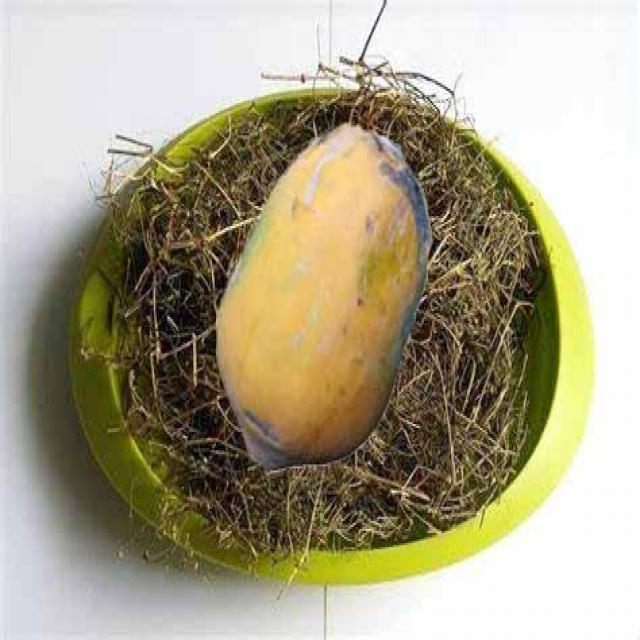Pepaya rippen: (218, 121, 446, 483)
